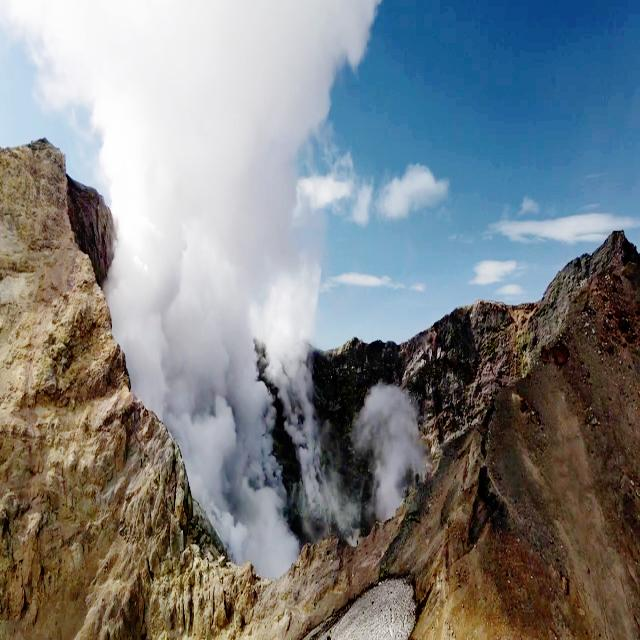asap: (9, 1, 380, 620), (14, 1, 386, 457), (65, 13, 376, 433), (41, 19, 191, 477), (175, 404, 314, 597), (356, 368, 446, 541), (265, 217, 332, 392)
